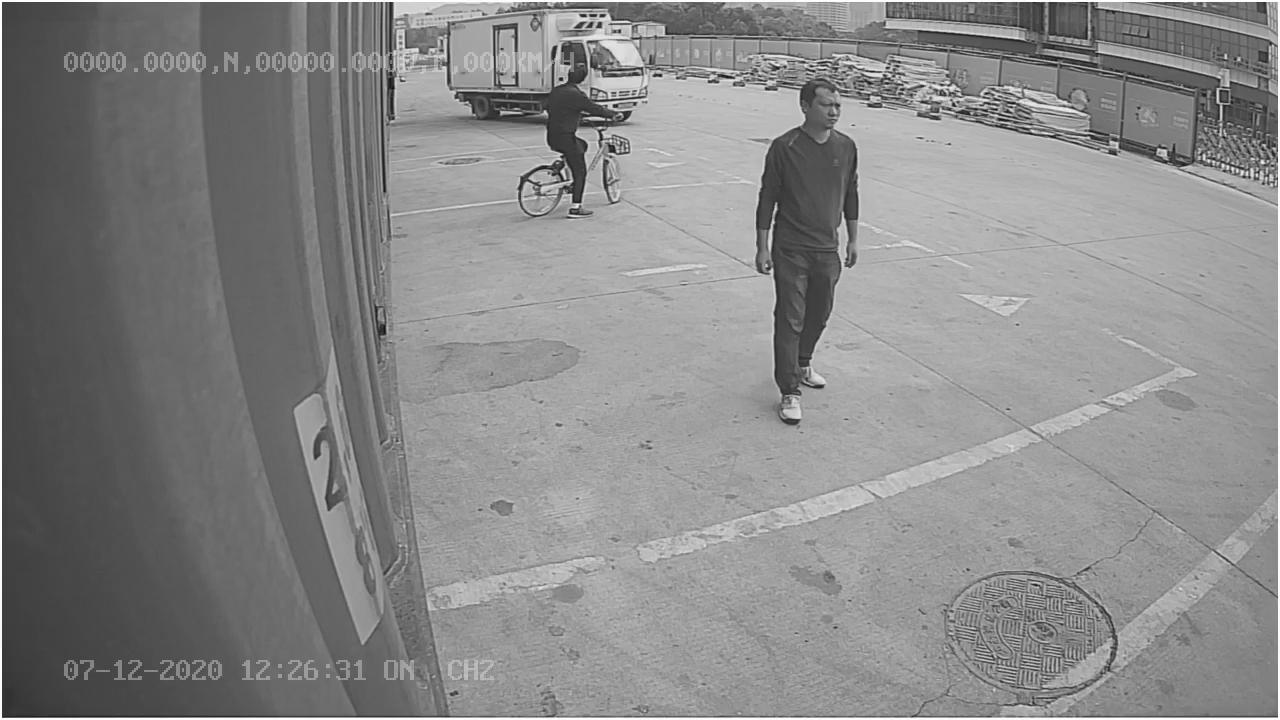person: (751, 76, 866, 430)
